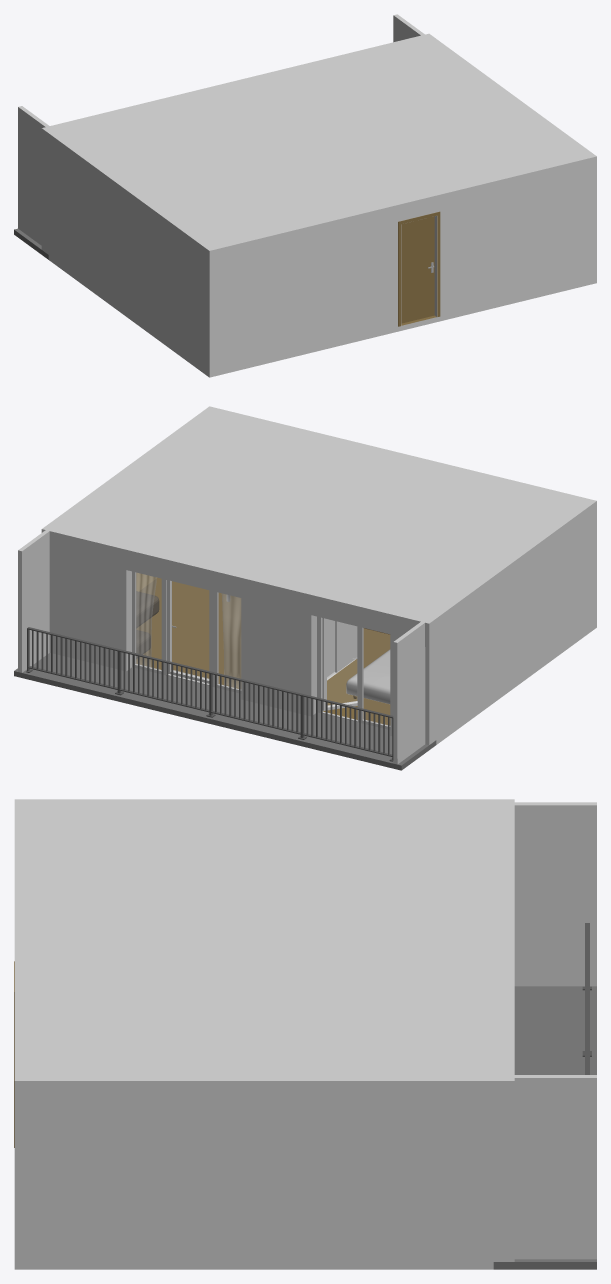
Rendered from Appt2.fbx.
3 views of the same model, one above another, from view 1: azimuth 30°, elevation 25°; view 2: azimuth 150°, elevation 25°; view 3: azimuth 270°, elevation 25° (orthographic). The views are drawn at different scales.
Parts seen in each view (by area): view 1: Living2, Bathroom2, Bedroom2, Facade2; view 2: Facade2, Living2, Bedroom2, Bathroom2; view 3: Living2, Facade2, Bedroom2, Bathroom2.
Boxes of the visible parts, x1,y1,x2,y2 form: Living2: (222,39,596,334); Bathroom2: (147,161,386,377); Bedroom2: (48,90,321,333); Facade2: (14,14,435,259); Facade2: (14,524,436,770); Living2: (49,406,423,688); Bedroom2: (260,502,537,744); Bathroom2: (356,458,596,670); Living2: (14,925,493,1269); Facade2: (493,799,596,1269); Bedroom2: (191,799,493,927); Bathroom2: (14,799,205,927).
Bounding box in the file's own units: 80 × 25 × 69.99.
